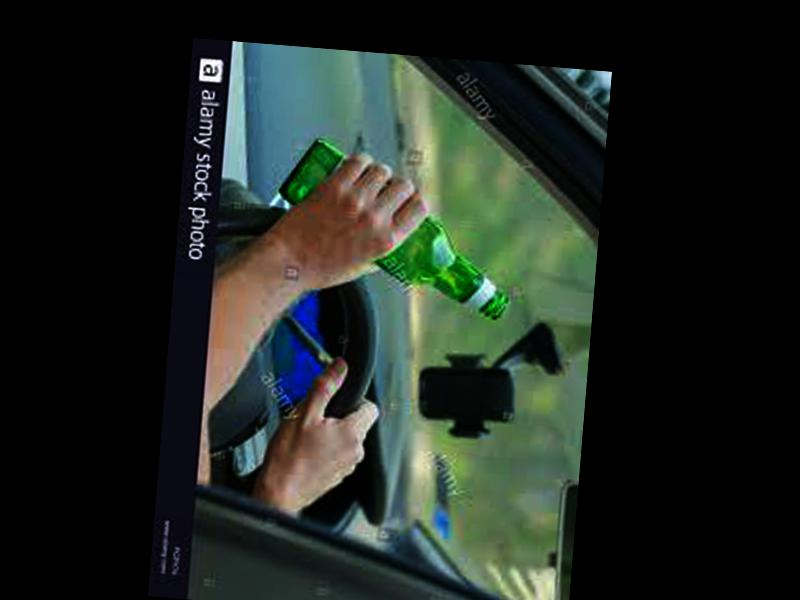Beer: (267, 141, 516, 318)
